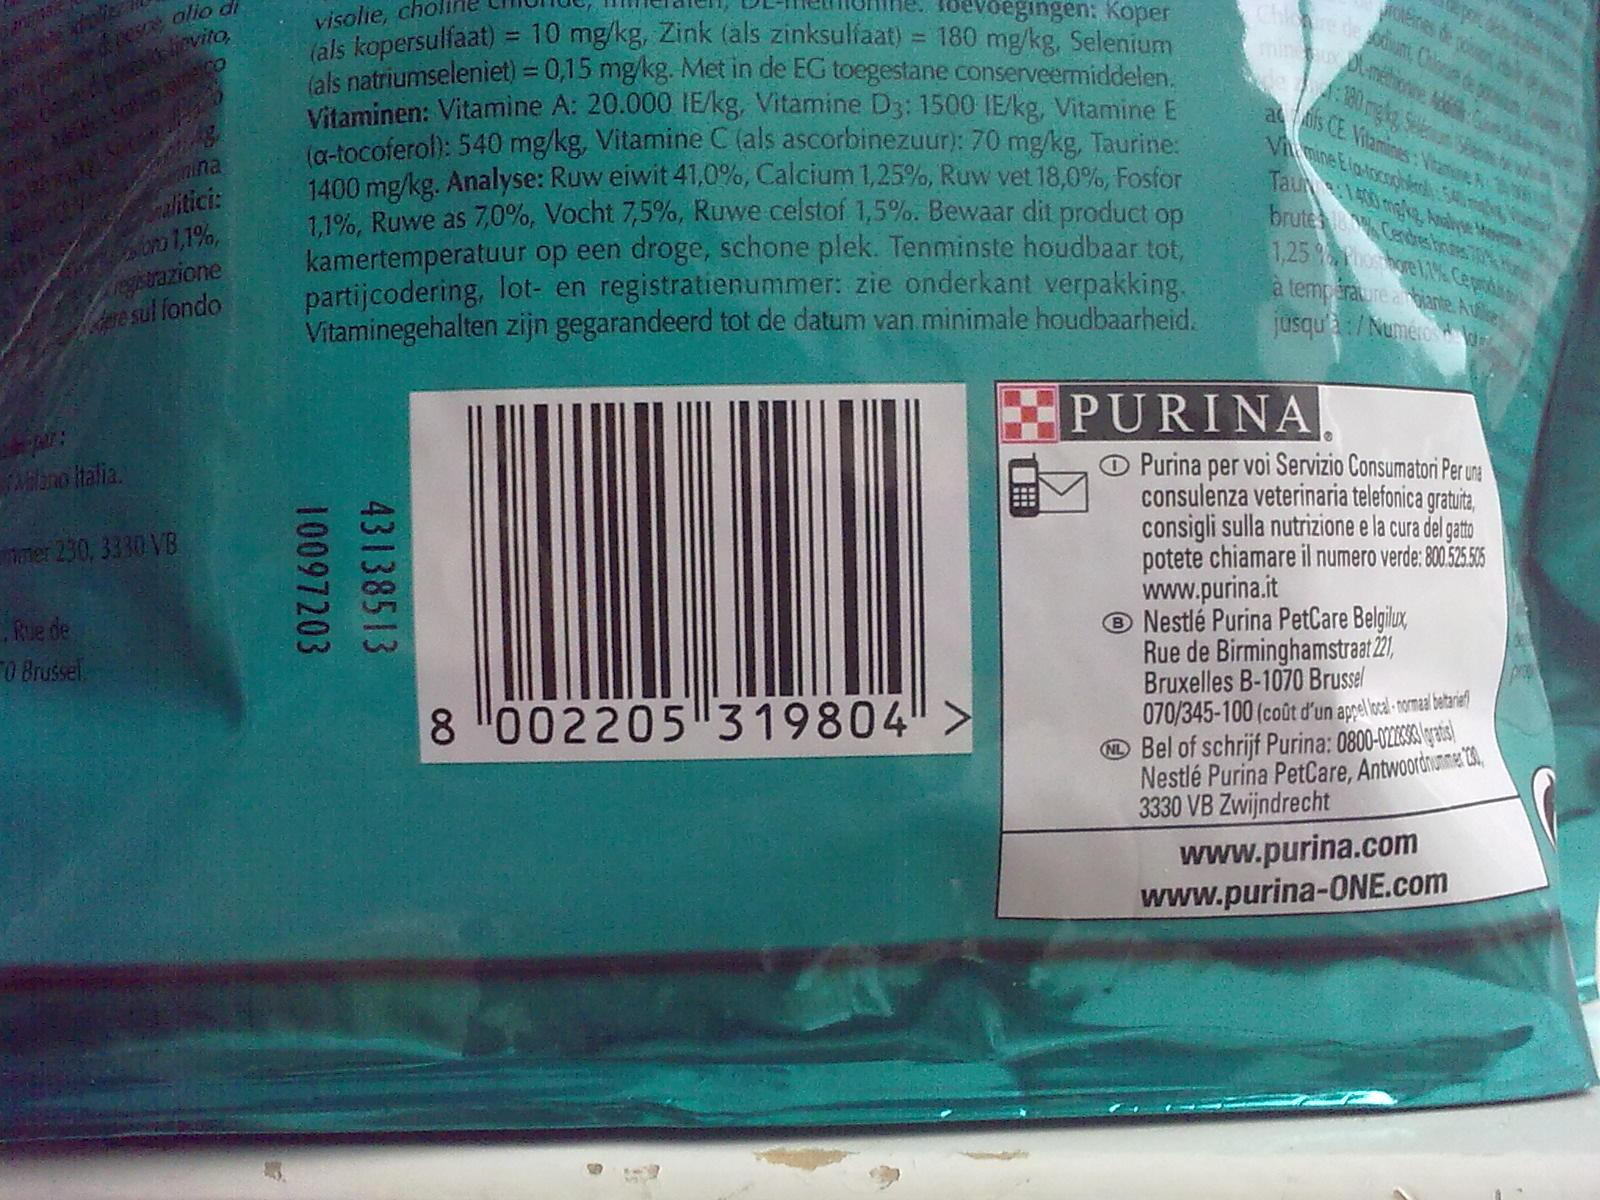barcode: (412, 382, 973, 763)
